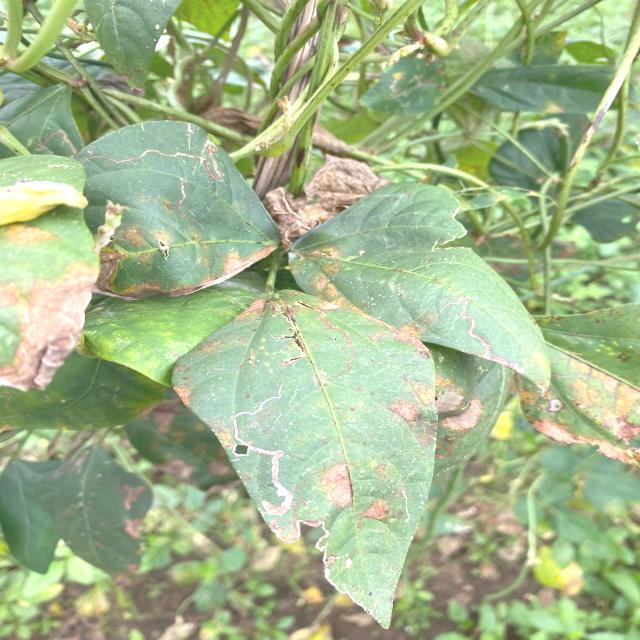sitaw-aphid-low: (172, 291, 449, 626), (290, 183, 552, 395), (75, 121, 279, 299)
